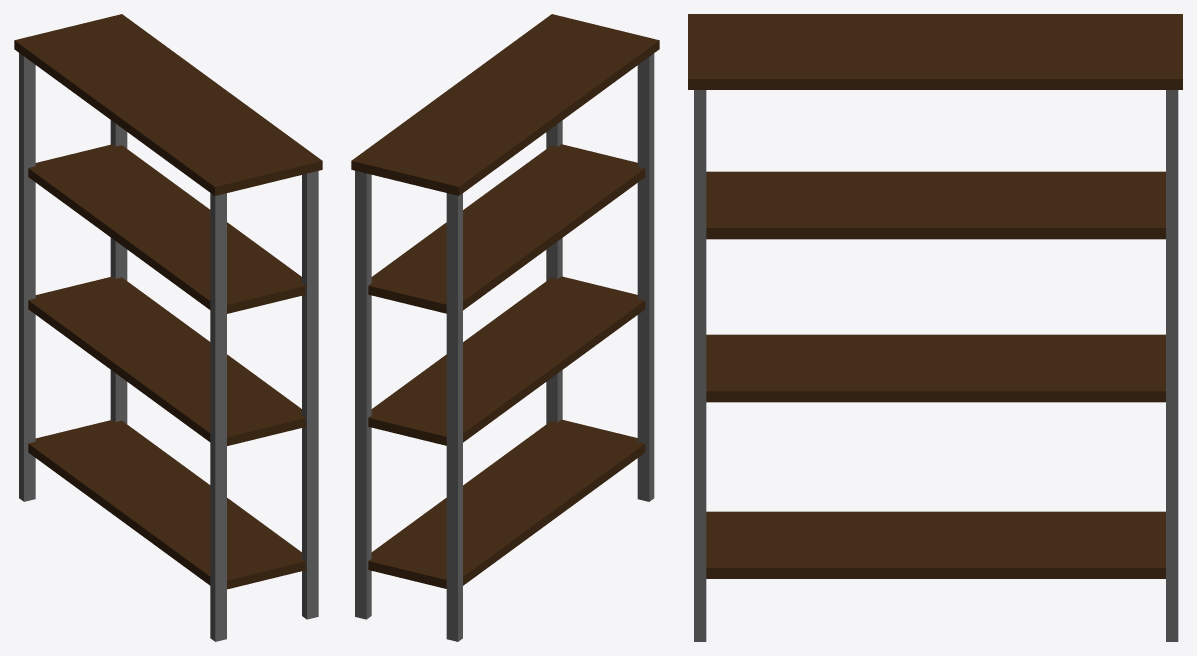
File: Shelf2.fbx
The picture shows the model from 3 angles, left to right: view 1: azimuth 30°, elevation 25°; view 2: azimuth 150°, elevation 25°; view 3: azimuth 270°, elevation 25°; orthographic projection. The views are drawn at different scales.
Parts seen in each view (by area): view 1: Shelf.003, Shelf.002, Shelf, Shelf.001, Pole, Pole.003, Pole.002, Pole.001; view 2: Shelf.003, Shelf.001, Shelf.002, Shelf, Pole, Pole.002, Pole.001, Pole.003; view 3: Shelf.003, Shelf.001, Shelf.002, Shelf, Pole.003, Pole.001.
Boxes of the visible parts, bbox=[...] form: Shelf.003: bbox=[14, 14, 322, 195]; Shelf.002: bbox=[28, 144, 305, 313]; Shelf: bbox=[28, 420, 305, 589]; Shelf.001: bbox=[28, 276, 305, 445]; Pole: bbox=[210, 193, 226, 641]; Pole.003: bbox=[302, 171, 318, 619]; Pole.002: bbox=[19, 53, 35, 501]; Pole.001: bbox=[110, 120, 127, 423]; Shelf.003: bbox=[351, 14, 659, 195]; Shelf.001: bbox=[368, 276, 645, 445]; Shelf.002: bbox=[368, 144, 645, 313]; Shelf: bbox=[368, 419, 645, 588]; Pole: bbox=[637, 53, 654, 501]; Pole.002: bbox=[446, 193, 462, 641]; Pole.001: bbox=[355, 170, 371, 619]; Pole.003: bbox=[546, 120, 562, 424]; Shelf.003: bbox=[688, 14, 1182, 89]; Shelf.001: bbox=[706, 334, 1165, 402]; Shelf.002: bbox=[706, 171, 1165, 239]; Shelf: bbox=[706, 511, 1165, 578]; Pole.003: bbox=[694, 90, 706, 641]; Pole.001: bbox=[1166, 90, 1178, 641].
Bounding box in the file's own units: 230 × 932 × 741.
